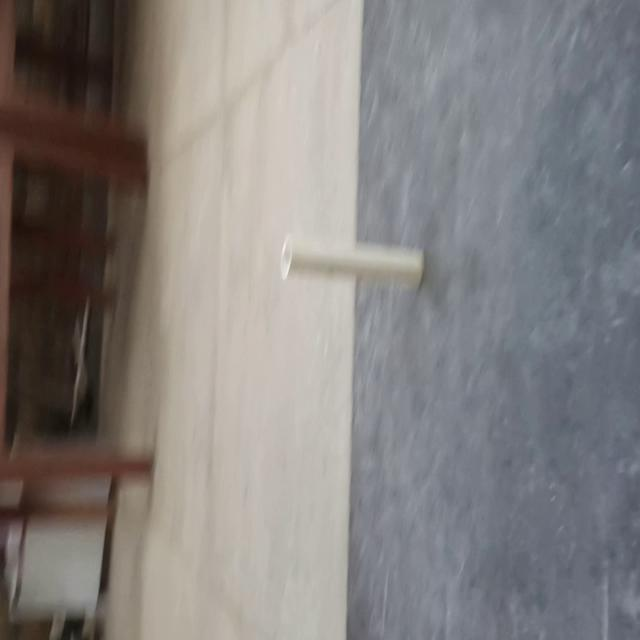Cube: (278, 231, 426, 293)
